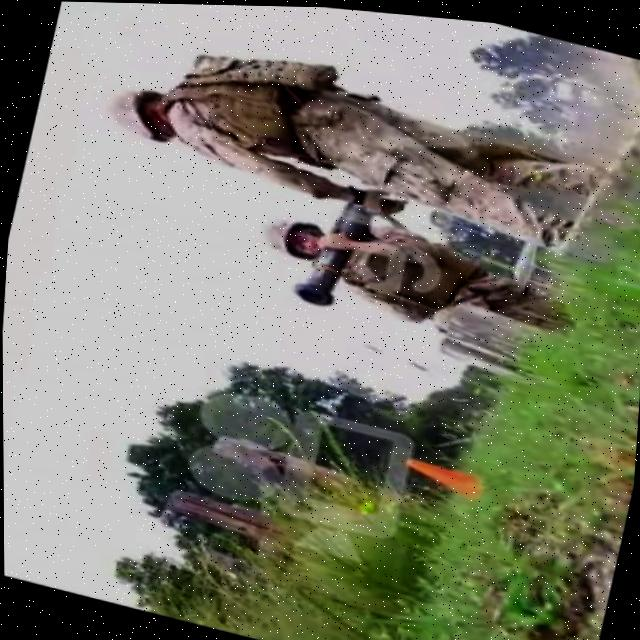rocket: (285, 175, 375, 315)
